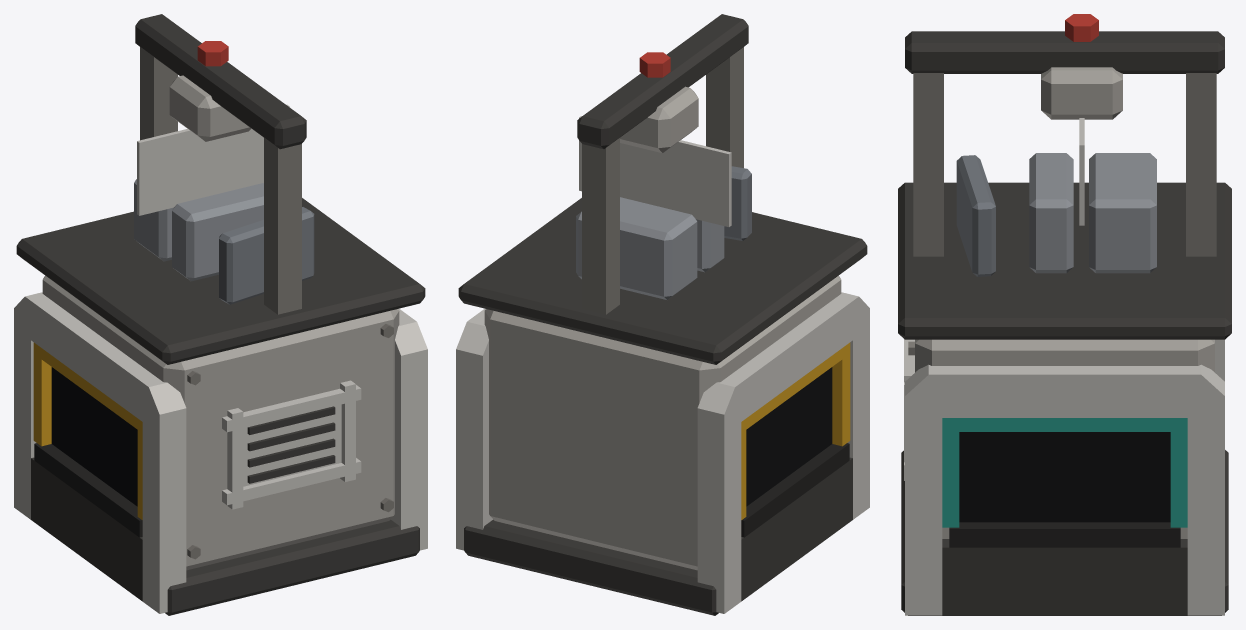
The model's file is stonecutter.fbx.
The picture shows the model from 3 angles, left to right: view 1: azimuth 30°, elevation 25°; view 2: azimuth 150°, elevation 25°; view 3: azimuth 270°, elevation 25°; orthographic projection. The views are drawn at different scales.
Parts seen in each view (by area): view 1: stonecutter; view 2: stonecutter; view 3: stonecutter.
Part boxes in pixels (left/top/right/bottom): stonecutter: left=14, top=14, right=427, bottom=615; stonecutter: left=456, top=14, right=869, bottom=615; stonecutter: left=898, top=14, right=1231, bottom=615.
Size of the model in its own units: 3 by 5.15 by 2.94.
